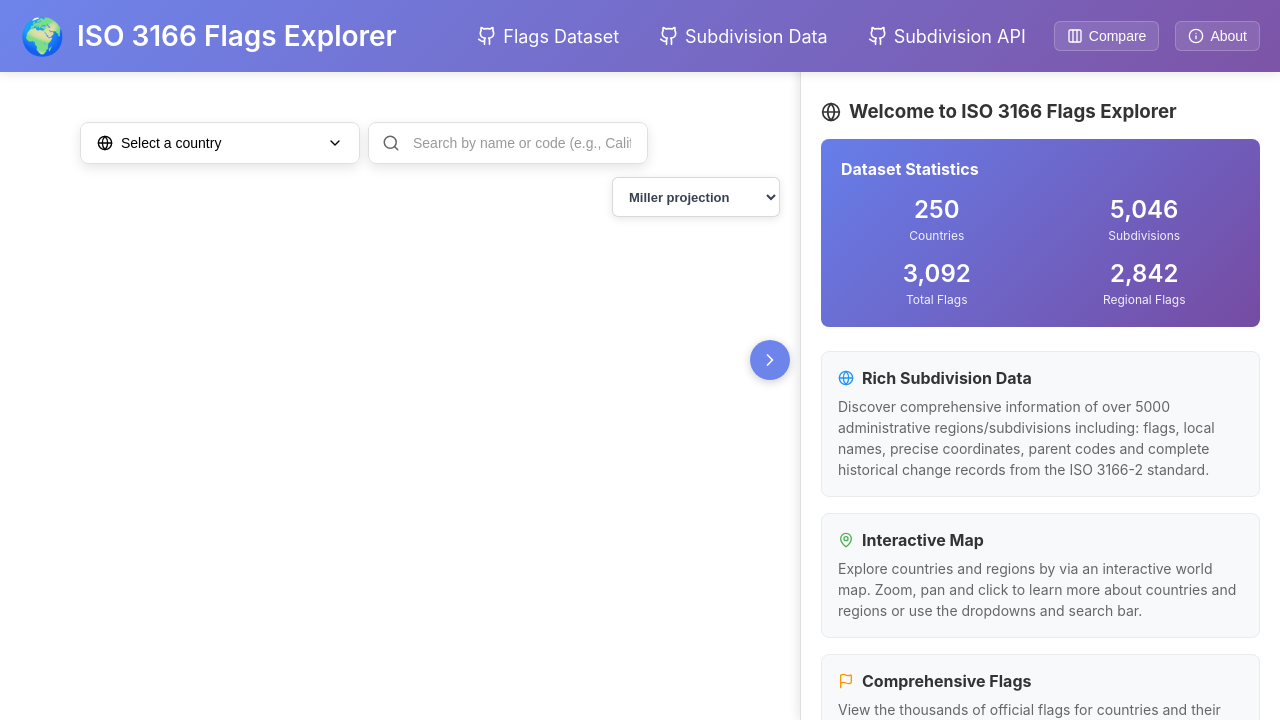
Test: Application Loading and Navigation › should open the country comparison panel
Click the button "Compare". click: (1107, 36)
box: [1054,21,1160,51]
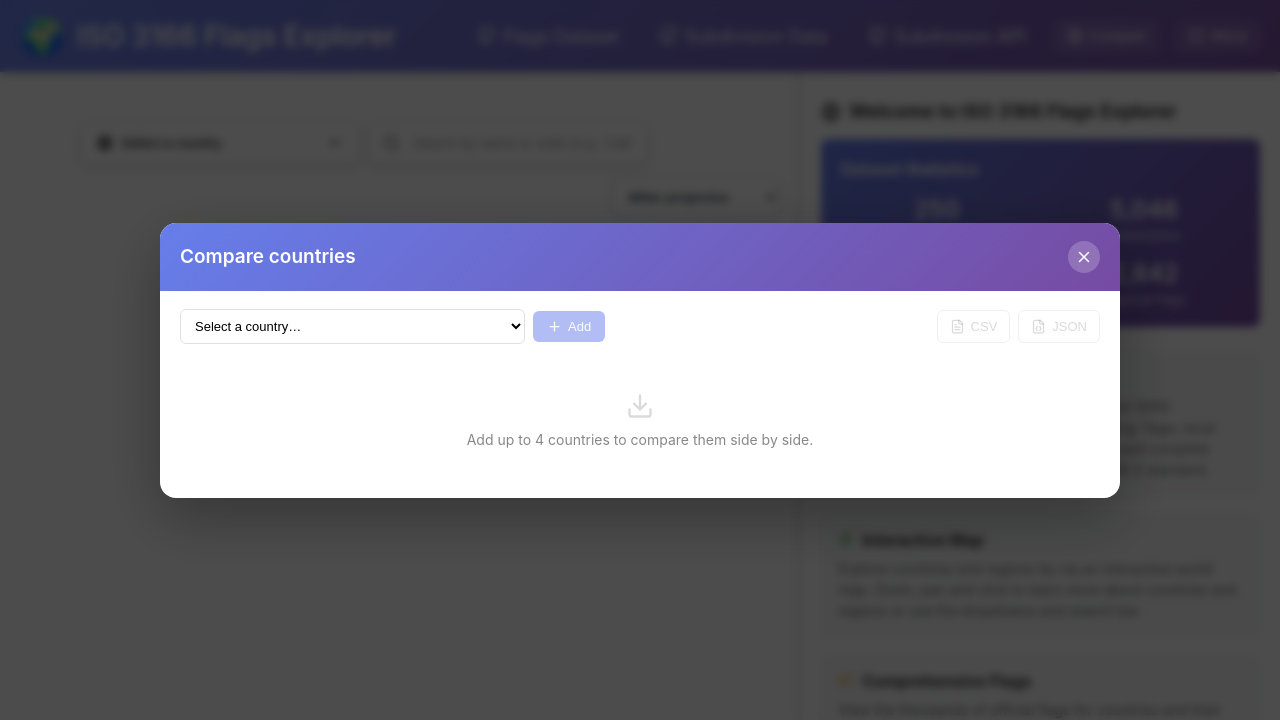
Result: the dialog shows "Compare countries" at [160,223,1120,498]
Click the button named "Close comparison". click: (1084, 257)
box: [1068,241,1100,273]
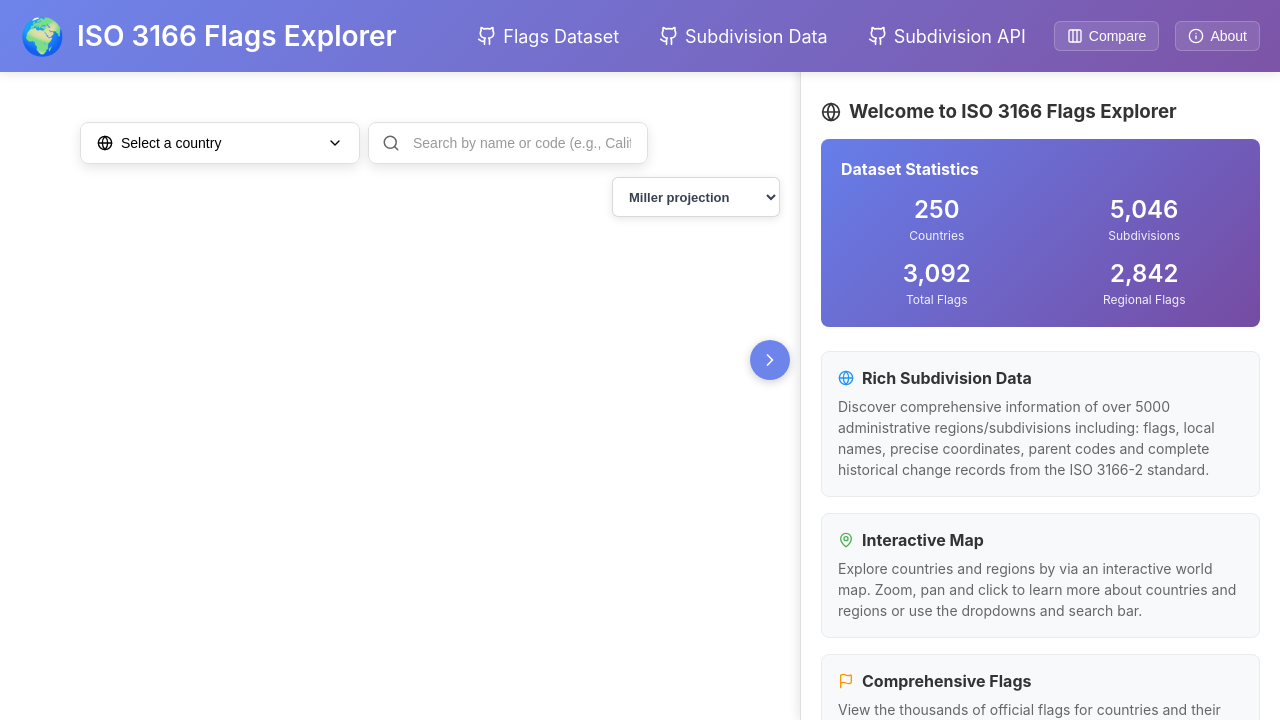
Result: the dialog is gone
